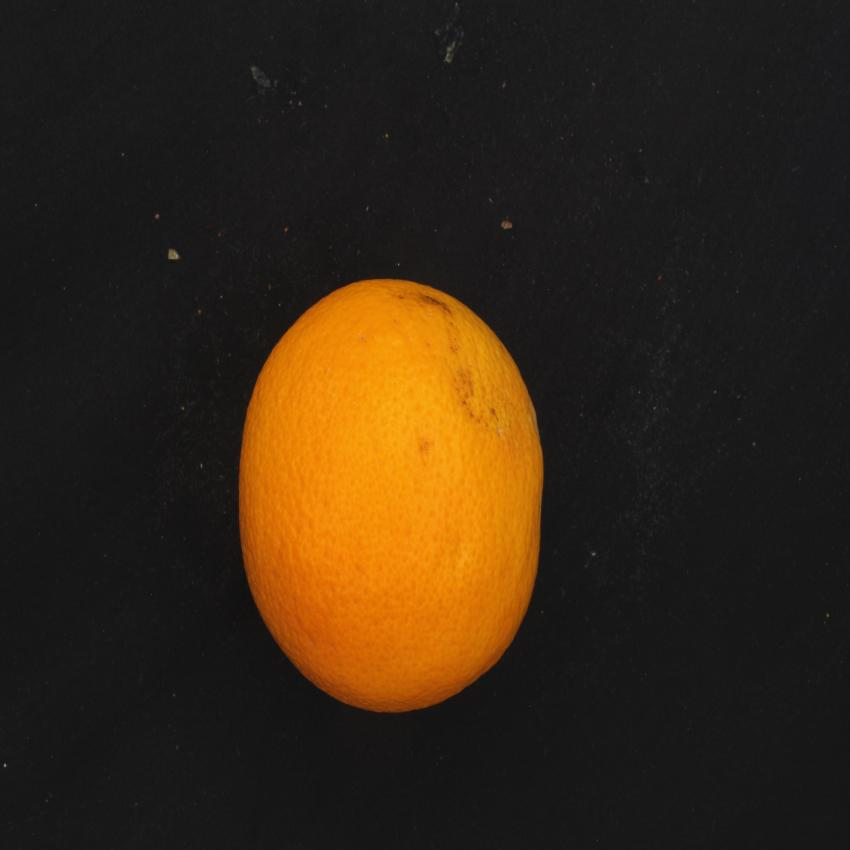Buen estado: (230, 264, 552, 730)
